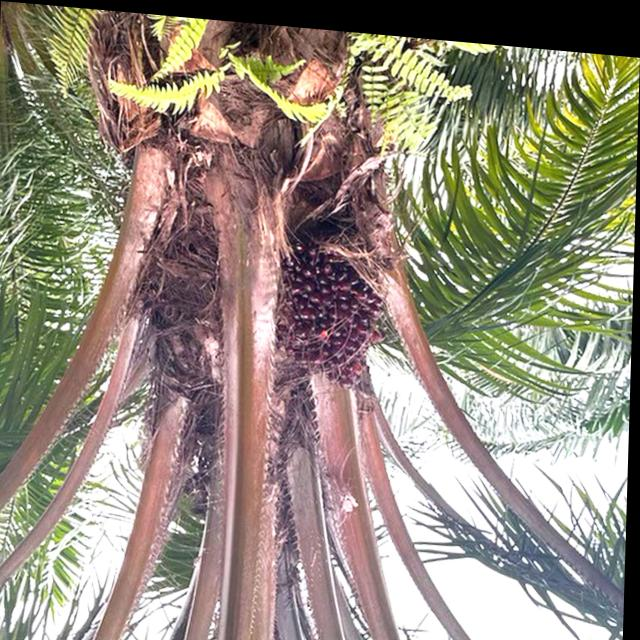ripe: (271, 227, 395, 401)
